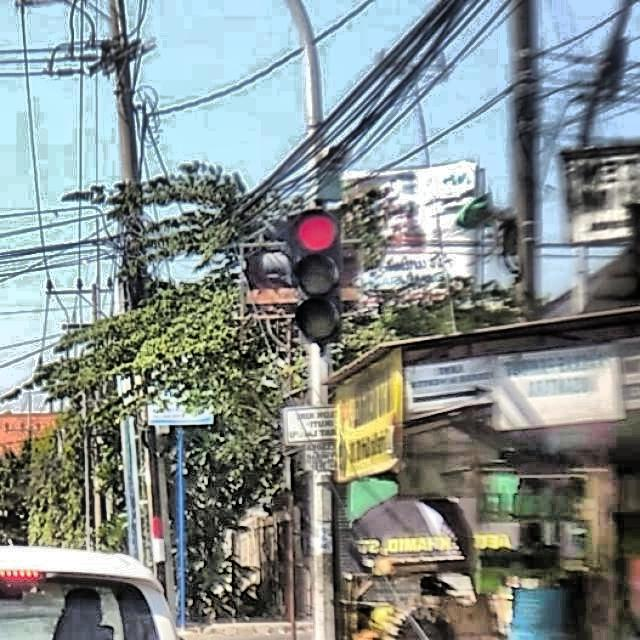red: (294, 206, 344, 348)
